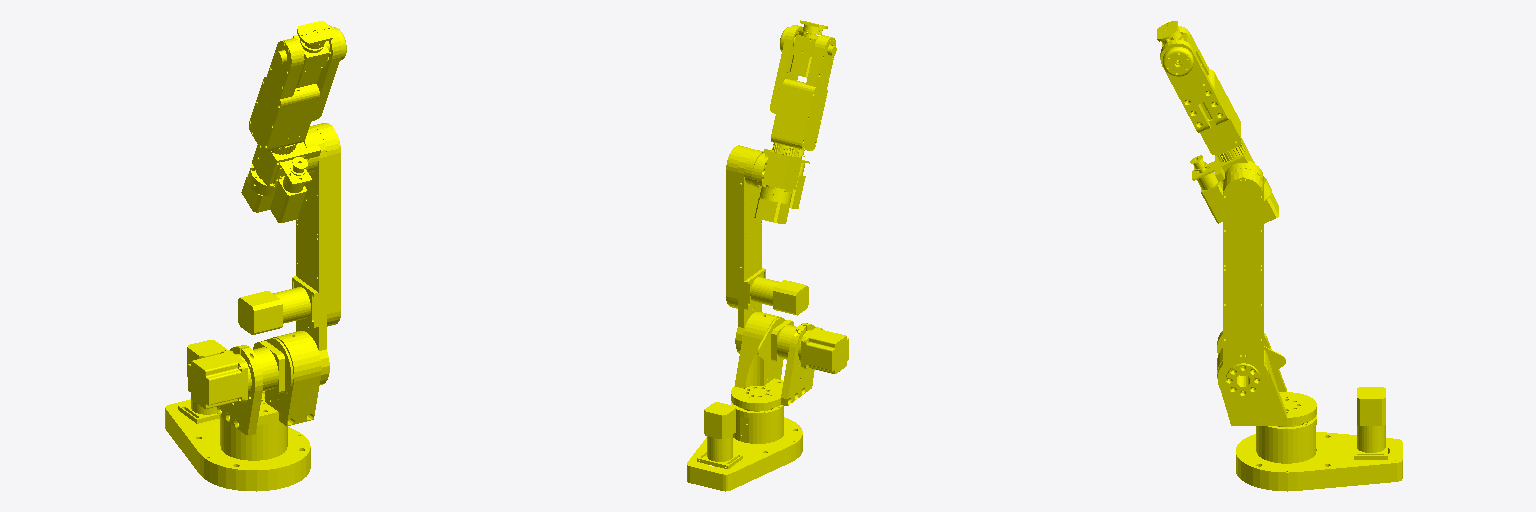
The robot description file, URDF, robot "ar3":
<robot
  name="ar3">
  <link
    name="base_link">
    <inertial>
      <origin
        xyz="-4.6941E-06 0.054174 0.038824"
        rpy="0 0 0" />
      <mass
        value="0.7102" />
      <inertia
        ixx="0.0039943"
        ixy="3.697E-07"
        ixz="-5.7364E-08"
        iyy="0.0014946"
        iyz="-0.00036051"
        izz="0.0042554" />
    </inertial>
    <visual>
      <origin
        xyz="0 0 0"
        rpy="0 0 0" />
      <geometry>
        <mesh scale = "10 10 10"
          filename="package://marsha_description/meshes/base_link.STL" />
      </geometry>
      <material
        name="">
        <color
          rgba="1 1 0 1" />
      </material>
    </visual>
    <collision>
      <origin
        xyz="0 0 0"
        rpy="0 0 0" />
      <geometry>
        <mesh scale = "10 10 10"
          filename="package://marsha_description/meshes/base_link.STL" />
      </geometry>
    </collision>
  </link>
  <link
    name="link_1">
    <inertial>
      <origin
        xyz="-0.022706 0.04294 -0.12205"
        rpy="0 0 0" />
      <mass
        value="0.88065" />
      <inertia
        ixx="0.0034"
        ixy="0.00042296"
        ixz="-0.00089231"
        iyy="0.0041778"
        iyz="0.0010848"
        izz="0.0027077" />
    </inertial>
    <visual>
      <origin
        xyz="0 0 0"
        rpy="0 0 0" />
      <geometry>
        <mesh scale = "10 10 10"
          filename="package://marsha_description/meshes/link_1.STL" />
      </geometry>
      <material
        name="">
        <color
          rgba="1 1 0 1" />
      </material>
    </visual>
    <collision>
      <origin
        xyz="0 0 0"
        rpy="0 0 0" />
      <geometry>
        <mesh scale = "10 10 10"
          filename="package://marsha_description/meshes/link_1.STL" />
      </geometry>
    </collision>
  </link>
  <joint
    name="joint_1"
    type="continuous">
    <origin
      xyz="0 0 0.003445"
      rpy="3.1416 -1.0248E-21 -1.6736E-05" />
    <parent
      link="base_link" />
    <child
      link="link_1" />
    <axis
      xyz="0 0 1" />
  </joint>
  <link
    name="link_2">
    <inertial>
      <origin
        xyz="0.064818 -0.11189 -0.038671"
        rpy="0 0 0" />
      <mass
        value="0.57738" />
      <inertia
        ixx="0.0047312"
        ixy="0.0022624"
        ixz="0.00032144"
        iyy="0.0020836"
        iyz="-0.00056569"
        izz="0.0056129" />
    </inertial>
    <visual>
      <origin
        xyz="0 0 0"
        rpy="0 0 0" />
      <geometry>
        <mesh scale = "10 10 10"
          filename="package://marsha_description/meshes/link_2.STL" />
      </geometry>
      <material
        name="">
        <color
          rgba="1 1 0 1" />
      </material>
    </visual>
    <collision>
      <origin
        xyz="0 0 0"
        rpy="0 0 0" />
      <geometry>
        <mesh scale = "10 10 10"
          filename="package://marsha_description/meshes/link_2.STL" />
      </geometry>
    </collision>
  </link>
  <joint
    name="joint_2"
    type="continuous">
    <origin
      xyz="0 0.025 -0.065"
      rpy="1.5708 0.5236 -1.5708" />
    <parent
      link="link_1" />
    <child
      link="link_2" />
    <axis
      xyz="0 0 -1" />
  </joint>
  <link
    name="link_3">
    <inertial>
      <origin
        xyz="-0.00029765 -0.023661 -1.04720367321"
        rpy="0 0 0" />
      <mass
        value="0.1787" />
      <inertia
        ixx="0.0001685"
        ixy="-2.7713E-05"
        ixz="5.6885E-06"
        iyy="0.00012865"
        iyz="2.9256E-05"
        izz="0.00020744" />
    </inertial>
    <visual>
      <origin
        xyz="0 0 0"
        rpy="0 0 0" />
      <geometry>
        <mesh scale = "10 10 10"
          filename="package://marsha_description/meshes/link_3.STL" />
      </geometry>
      <material
        name="">
        <color
          rgba="1 1 0 1" />
      </material>
    </visual>
    <collision>
      <origin
        xyz="0 0 0"
        rpy="0 0 0" />
      <geometry>
        <mesh scale = "10 10 10"
          filename="package://marsha_description/meshes/link_3.STL" />
      </geometry>
    </collision>
  </link>
  <joint
    name="joint_3"
    type="continuous">
    <origin
      xyz="0.05957 -0.10318 0"
      rpy="3.3431E-16 -1.4164E-16 -1.4953816339" />
    <parent
      link="link_2" />
    <child
      link="link_3" />
    <axis
      xyz="0 0 -1" />
  </joint>
  <link
    name="link_4">
    <inertial>
      <origin
        xyz="-0.0016798 -0.00057319 -0.074404"
        rpy="0 0 0" />
      <mass
        value="0.34936" />
      <inertia
        ixx="0.0030532"
        ixy="-1.8615E-05"
        ixz="-7.0047E-05"
        iyy="0.0031033"
        iyz="-2.3301E-05"
        izz="0.00022264" />
    </inertial>
    <visual>
      <origin
        xyz="0 0 0"
        rpy="0 0 0" />
      <geometry>
        <mesh scale = "10 10 10"
          filename="package://marsha_description/meshes/link_4.STL" />
      </geometry>
      <material
        name="">
        <color
          rgba="1 1 0 1" />
      </material>
    </visual>
    <collision>
      <origin
        xyz="0 0 0"
        rpy="0 0 0" />
      <geometry>
        <mesh scale = "10 10 10"
          filename="package://marsha_description/meshes/link_4.STL" />
      </geometry>
    </collision>
  </link>
  <joint
    name="joint_4"
    type="continuous">
    <origin
      xyz="0 0 0.00263"
      rpy="1.5708 -1.2554 -1.5708" />
    <parent
      link="link_3" />
    <child
      link="link_4" />
    <axis
      xyz="0 0 -1" />
  </joint>
  <link
    name="link_5">
    <inertial>
      <origin
        xyz="0.0015066 -1.3102E-05 -0.012585"
        rpy="0 0 0" />
      <mass
        value="0.11562" />
      <inertia
        ixx="5.5035E-05"
        ixy="-1.019E-08"
        ixz="-2.6243E-06"
        iyy="8.2921E-05"
        iyz="1.4437E-08"
        izz="5.2518E-05" />
    </inertial>
    <visual>
      <origin
        xyz="0 0 0"
        rpy="0 0 0" />
      <geometry>
        <mesh scale = "10 10 10"
          filename="package://marsha_description/meshes/link_5.STL" />
      </geometry>
      <material
        name="">
        <color
          rgba="1 1 0 1" />
      </material>
    </visual>
    <collision>
      <origin
        xyz="0 0 0"
        rpy="0 0 0" />
      <geometry>
        <mesh scale = "10 10 10"
          filename="package://marsha_description/meshes/link_5.STL" />
      </geometry>
    </collision>
  </link>
  <joint
    name="joint_5"
    type="continuous">
    <origin
      xyz="0 0 -0.08679"
      rpy="3.1416 0 -2.8262" />
    <parent
      link="link_4" />
    <child
      link="link_5" />
    <axis
      xyz="-1 0 0" />
  </joint>
  <link
    name="link_6">
    <inertial>
      <origin
        xyz="2.9287E-10 -1.6472E-09 0.0091432"
        rpy="0 0 0" />
      <mass
        value="0.013863" />
      <inertia
        ixx="1.3596E-06"
        ixy="3.0585E-13"
        ixz="5.7102E-14"
        iyy="1.7157E-06"
        iyz="6.3369E-09"
        izz="2.4332E-06" />
    </inertial>
    <visual>
      <origin
        xyz="0 0 0"
        rpy="0 0 0" />
      <geometry>
        <mesh scale = "10 10 10"
          filename="package://marsha_description/meshes/link_6.STL" />
      </geometry>
      <material
        name="">
        <color
          rgba="1 1 0 1" />
      </material>
    </visual>
    <collision>
      <origin
        xyz="0 0 0"
        rpy="0 0 0" />
      <geometry>
        <mesh scale="10 10 10"
          filename="package://marsha_description/meshes/link_6.STL" />
      </geometry>
    </collision>
  </link>
  <joint
    name="joint_6"
    type="continuous">
    <origin
      xyz="-0.00011 0 0.008269"
      rpy="0 0 3.1416" />
    <parent
      link="link_5" />
    <child
      link="link_6" />
    <axis
      xyz="0 0 1" />
  </joint>

</robot>

--- What the picture shows (computed from the rendered views, not written in the file) ---
Views: 3 orthographic renders of the robot side by side, from view 1: azimuth 30°, elevation 25°; view 2: azimuth 150°, elevation 25°; view 3: azimuth 270°, elevation 25°.
Model ar3 with 7 links and 6 joints (6 continuous), rooted at base_link, posed all joints at 0.
Links seen in each view (by area): view 1: link_2, link_1, base_link, link_4, link_3, link_5, link_6; view 2: link_2, link_1, base_link, link_4, link_3, link_5; view 3: base_link, link_2, link_4, link_1, link_3, link_5.
Boxes of the visible links, x1=… form: link_2: x1=238, y1=123, x2=340, y2=393; link_1: x1=188, y1=331, x2=321, y2=435; base_link: x1=165, y1=340, x2=310, y2=491; link_4: x1=241, y1=25, x2=341, y2=212; link_3: x1=252, y1=142, x2=320, y2=222; link_5: x1=275, y1=27, x2=346, y2=87; link_6: x1=297, y1=21, x2=332, y2=48; link_2: x1=726, y1=145, x2=808, y2=362; link_1: x1=731, y1=312, x2=848, y2=411; base_link: x1=687, y1=401, x2=802, y2=491; link_4: x1=754, y1=25, x2=835, y2=223; link_3: x1=752, y1=149, x2=809, y2=208; link_5: x1=780, y1=27, x2=836, y2=77; base_link: x1=1236, y1=387, x2=1402, y2=491; link_2: x1=1217, y1=164, x2=1285, y2=401; link_4: x1=1160, y1=26, x2=1278, y2=223; link_1: x1=1217, y1=331, x2=1316, y2=426; link_3: x1=1190, y1=148, x2=1263, y2=223; link_5: x1=1162, y1=29, x2=1195, y2=76.
Size in the robot's own frame: 0.0795 by 0.1415 by 0.2817 metres.
Meshes: 7 distinct files referenced, 7 mesh visuals loaded (7 binary STL).
